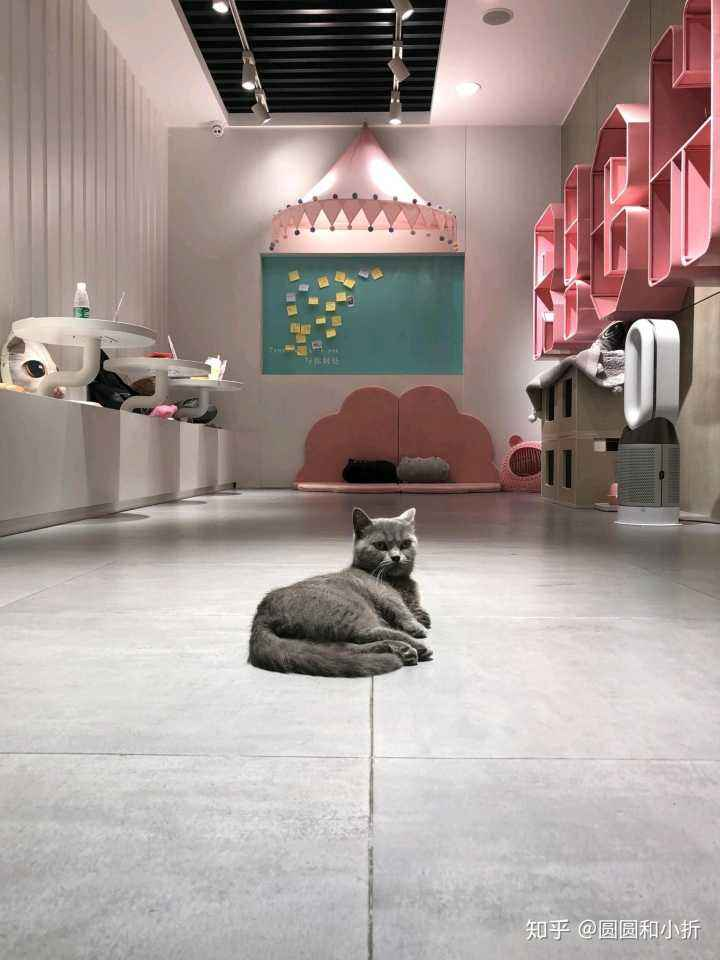cat: (242, 506, 437, 684)
